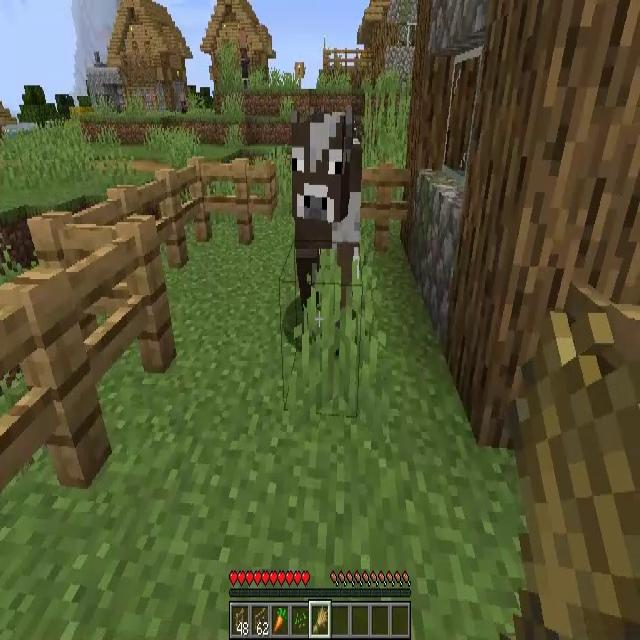cow: (292, 112, 359, 329)
